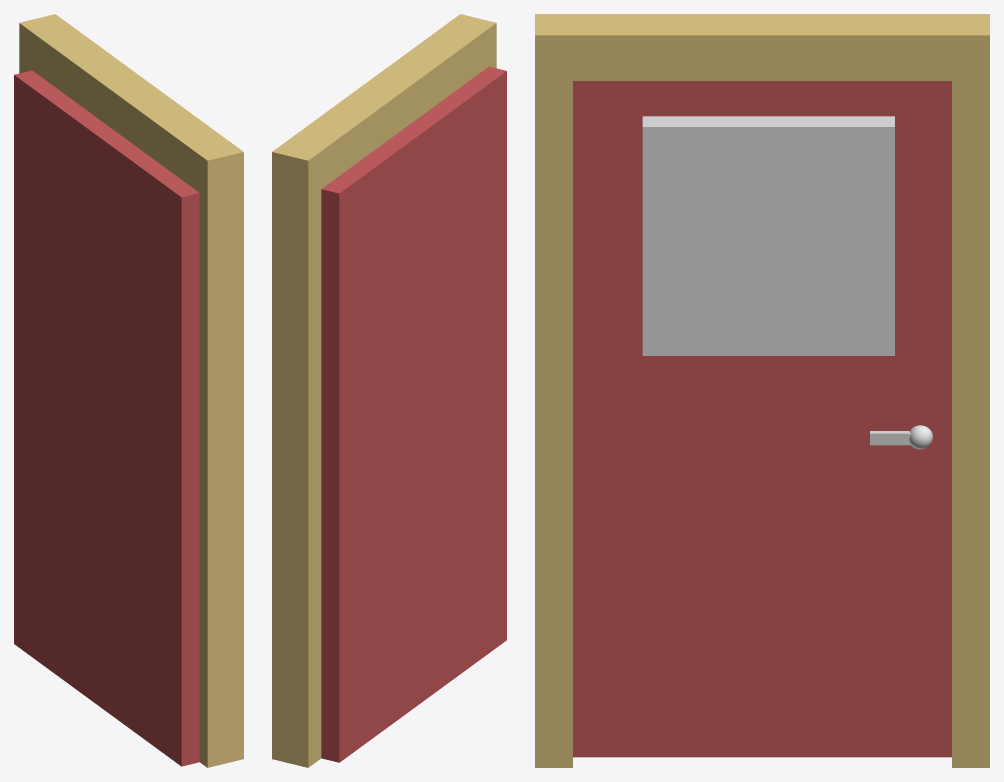
Rendered from E_ChefDoor.fbx.
3 renders of one model, left to right at view 1: azimuth 30°, elevation 25°; view 2: azimuth 150°, elevation 25°; view 3: azimuth 270°, elevation 25°, orthographic. The views are drawn at different scales.
Visible parts, largest first — view 1: Cubo, Cubo.001; view 2: Cubo, Cubo.001; view 3: Cubo, Cubo.001, Cubo.003, Cubo.002.
Boxes of the visible parts, x1=… form: Cubo: x1=14, y1=70, x2=199, y2=766; Cubo.001: x1=19, y1=14, x2=243, y2=767; Cubo: x1=321, y1=66, x2=506, y2=762; Cubo.001: x1=272, y1=14, x2=496, y2=767; Cubo: x1=573, y1=81, x2=951, y2=757; Cubo.001: x1=535, y1=14, x2=989, y2=767; Cubo.003: x1=642, y1=116, x2=894, y2=355; Cubo.002: x1=870, y1=425, x2=932, y2=449.
Size of the model in its own units: 30 by 320 by 180.
